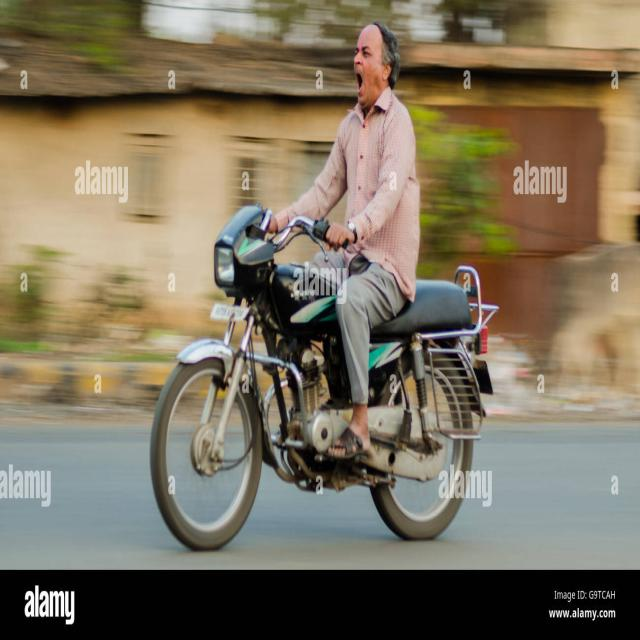Motorcycle: (152, 202, 497, 554)
No-Helmet: (354, 22, 393, 107)
Person: (283, 20, 421, 448)
